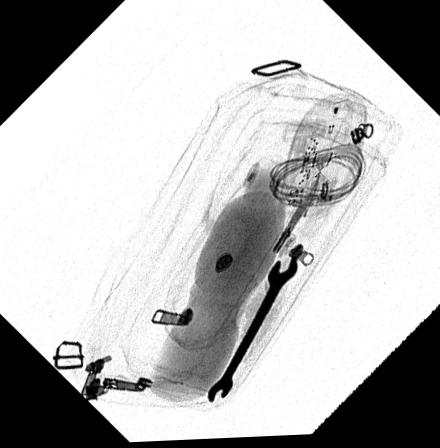Wrench: (206, 255, 299, 405)
